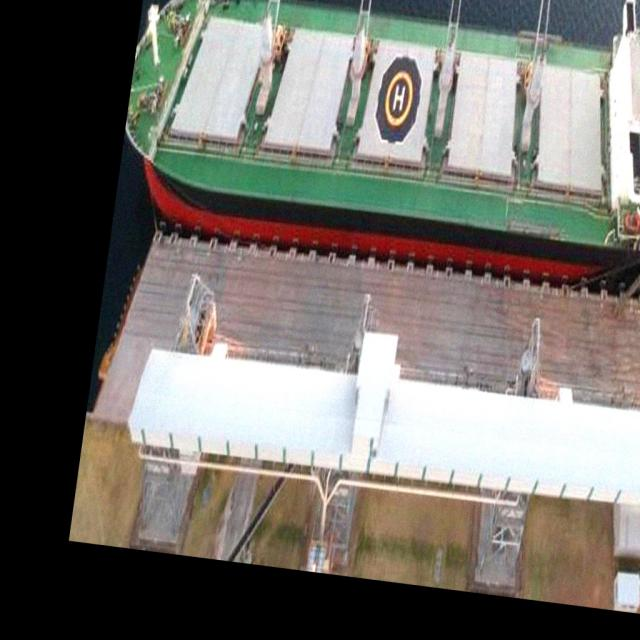helipad: (381, 68, 415, 128)
